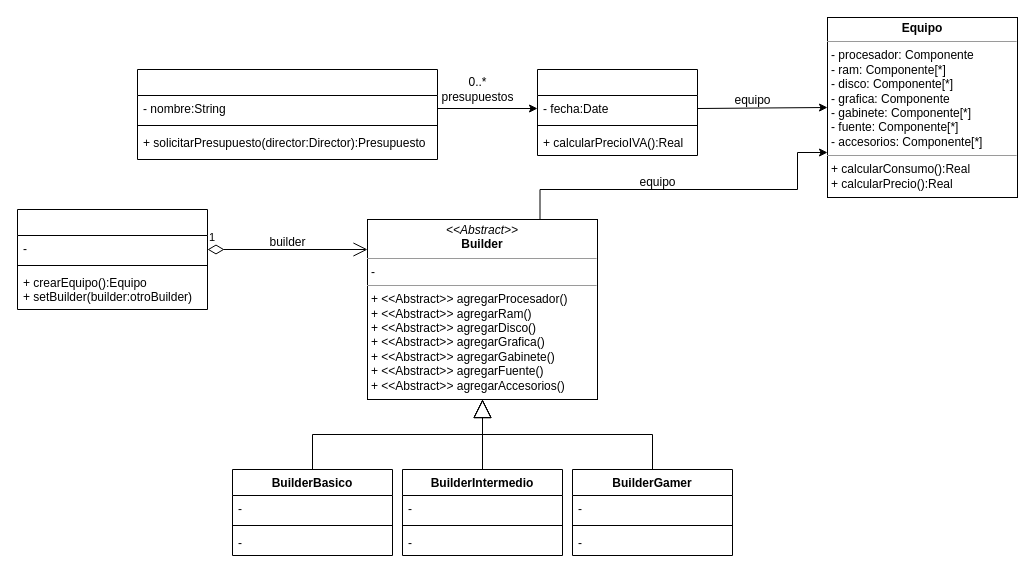
The diagram is 1035 pixels wide and 576 high, and some of its shapes have lost their labels. The shapes that lost their labels are listed below. From the top down, each one's box as (x1, y1, x2, y2) in pixels, then its label:
(136, 68, 438, 160): Cliente
(536, 68, 698, 156): Presupuesto
(16, 208, 208, 310): Director
